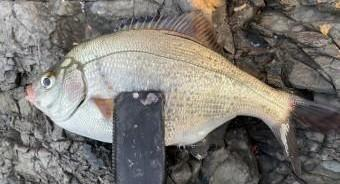fish: (26, 10, 339, 183)
